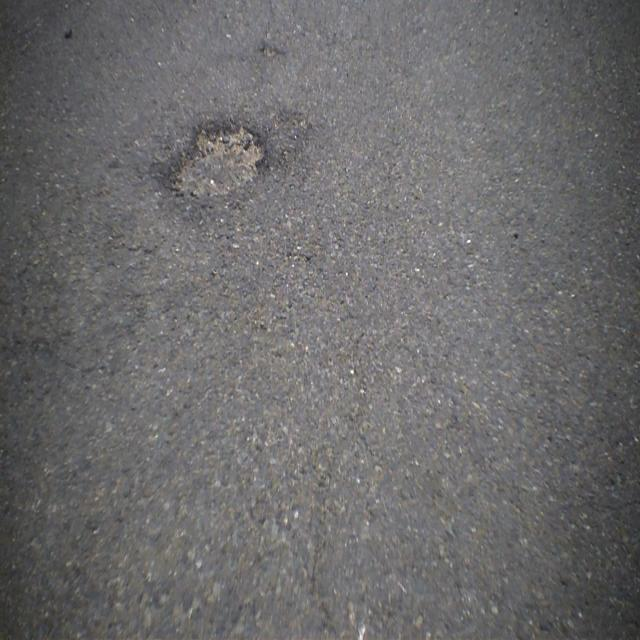Pothole: (153, 110, 280, 207)
